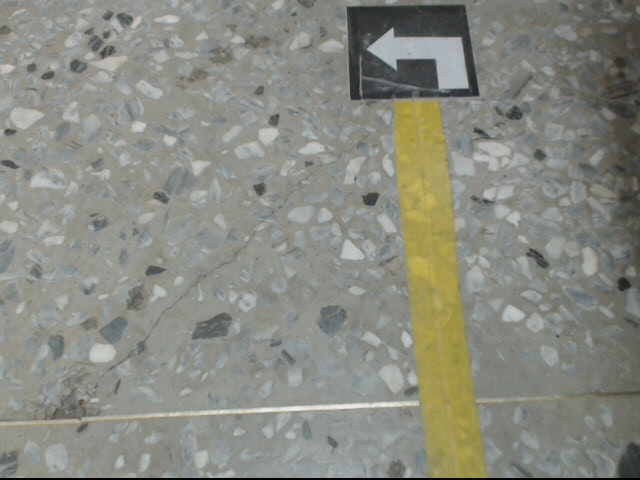left: (345, 4, 479, 101)
